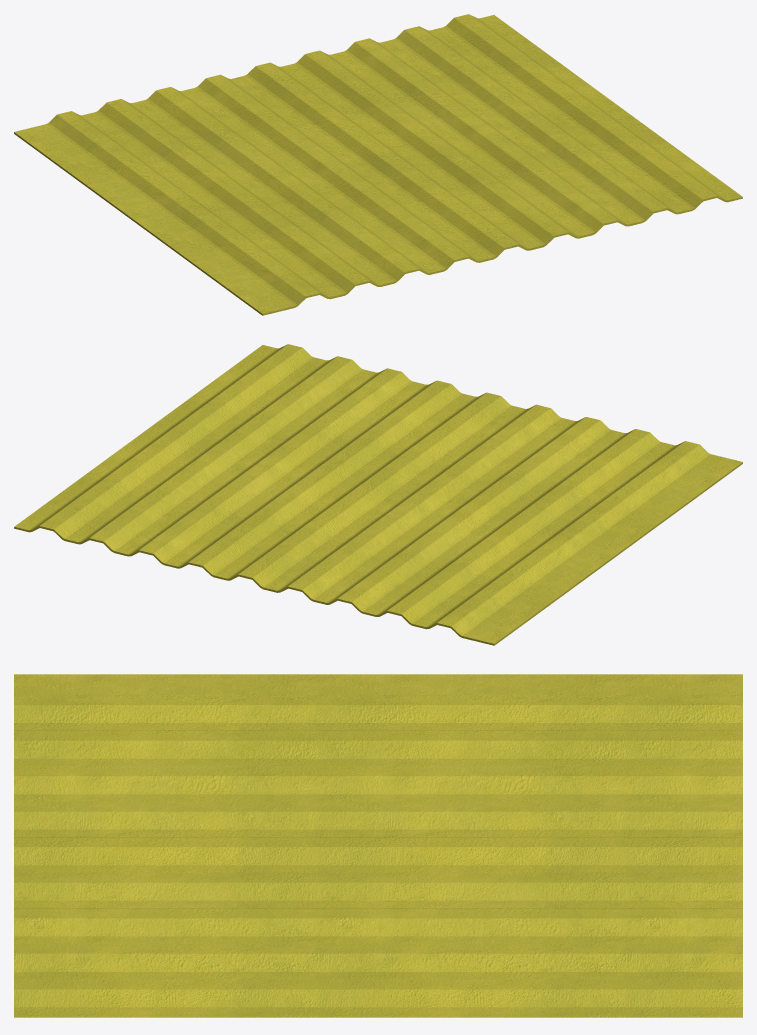
The model's file is ceiling-sprayfoam.glb.
3 renders of one model, top to bottom at view 1: azimuth 30°, elevation 25°; view 2: azimuth 150°, elevation 25°; view 3: azimuth 270°, elevation 25°, orthographic. The views are drawn at different scales.
Parts seen in each view (by area): view 1: 10FT Sprayfoam_Ceiling; view 2: 10FT Sprayfoam_Ceiling; view 3: 10FT Sprayfoam_Ceiling.
Boxes of the visible parts, x1,y1,x2,y2 form: 10FT Sprayfoam_Ceiling: (14, 14, 742, 315); 10FT Sprayfoam_Ceiling: (14, 344, 742, 645); 10FT Sprayfoam_Ceiling: (14, 674, 742, 1017).
Bounding box in the file's own units: 2.64 × 0.0464 × 2.37.
1 material, 1 textured.
